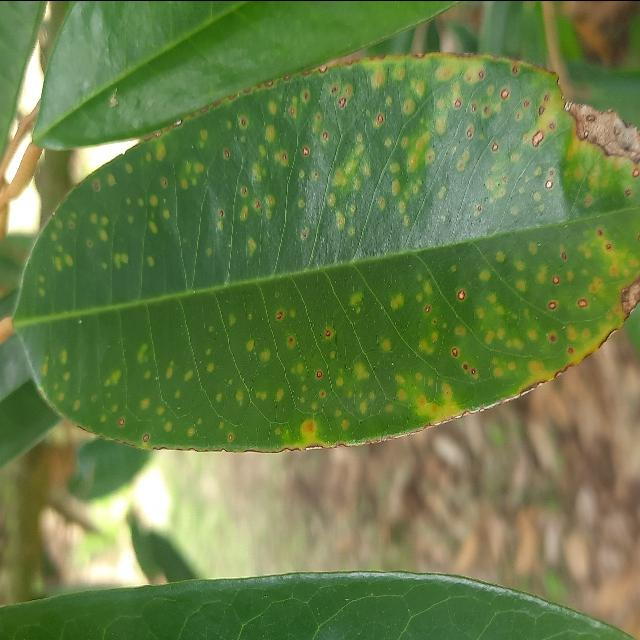Leaf Spot: (17, 41, 640, 459)
